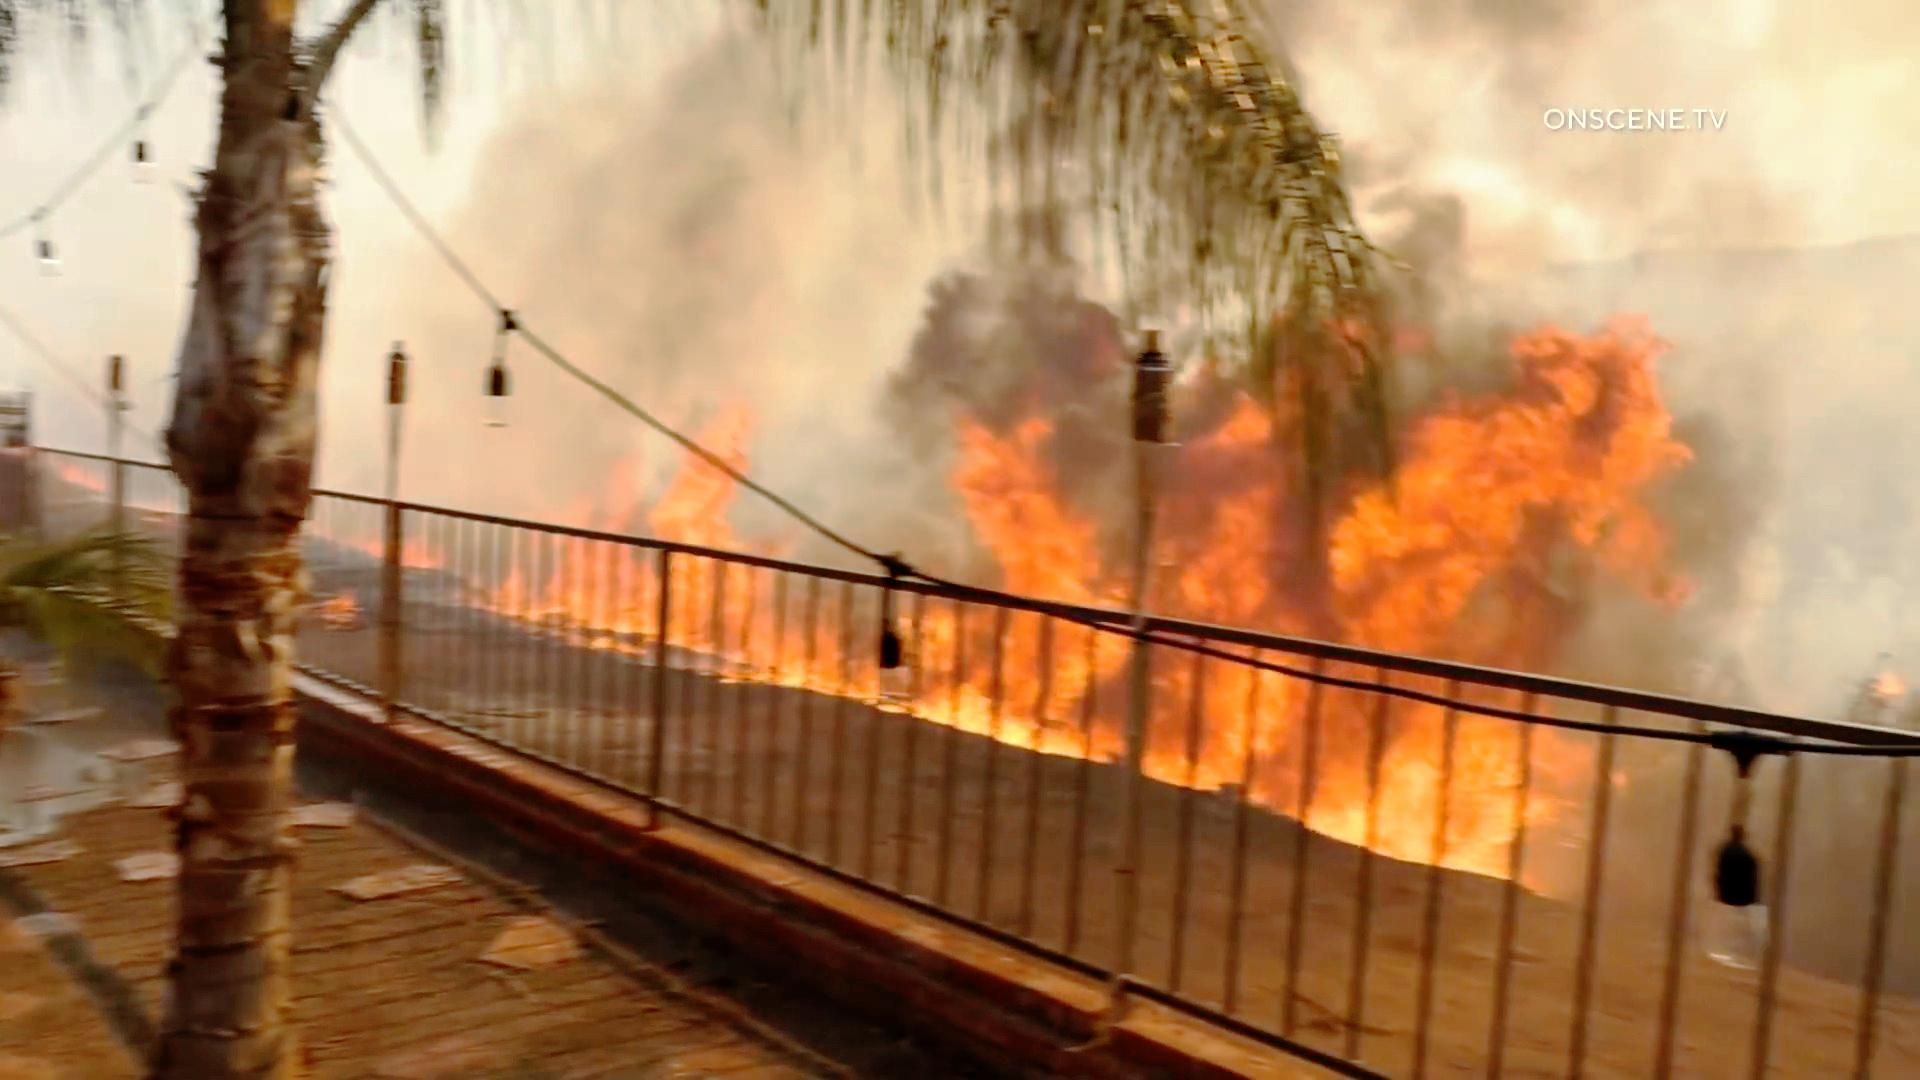fire: (928, 611, 1594, 909), (1309, 323, 1671, 634), (473, 423, 773, 645), (890, 373, 1106, 618)
smoke: (476, 18, 795, 377)
